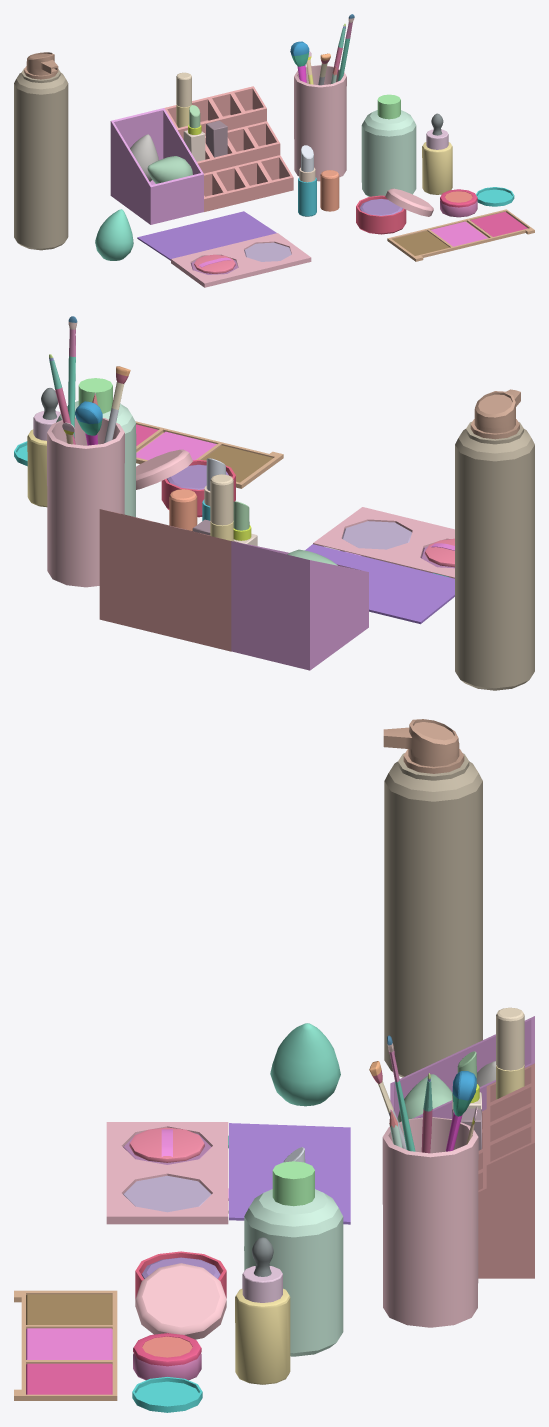
The model's file is Makeup.fbx.
The picture shows the model from 3 angles, top to bottom: view 1: azimuth 30°, elevation 25°; view 2: azimuth 150°, elevation 25°; view 3: azimuth 270°, elevation 25°; orthographic projection. The views are drawn at different scales.
Visible parts, largest first — view 1: 圆柱_6, 立方体.2, 立方体.3, 圆柱_3, 圆柱.2_5, 立方体.4_2, 立方体.3_1, 彩妆蛋2, 圆柱_4, 立方体.1_2, 圆柱.4_2, 彩妆蛋2.2 (+19 smaller); view 2: 圆柱_6, 立方体.2, 立方体.3, 圆柱_3, 立方体.4_2, 立方体.3_1, 圆柱.1_8, 立方体_3, 圆柱.2_5, 圆柱_4, 圆柱.6_2, 立方体.1_2 (+12 smaller); view 3: 圆柱_6, 圆柱_3, 圆柱.2_5, 立方体.2, 立方体.3_1, 立方体.4_2, 圆柱.6_2, 圆柱_4, 彩妆蛋2, 圆柱.1_8, 立方体.1_2, 立方体.3 (+14 smaller).
Boxes of the visible parts, bbox=[...] form: 圆柱_6: bbox=[14, 68, 68, 250]; 立方体.2: bbox=[164, 86, 293, 211]; 立方体.3: bbox=[110, 108, 203, 224]; 圆柱_3: bbox=[294, 65, 346, 181]; 圆柱.2_5: bbox=[361, 110, 416, 196]; 立方体.4_2: bbox=[137, 211, 276, 260]; 立方体.3_1: bbox=[171, 233, 311, 287]; 彩妆蛋2: bbox=[95, 209, 133, 260]; 圆柱_4: bbox=[422, 142, 452, 194]; 立方体.1_2: bbox=[387, 209, 534, 261]; 圆柱.4_2: bbox=[356, 195, 406, 234]; 彩妆蛋2.2: bbox=[147, 156, 192, 183]; 圆柱_6: bbox=[455, 422, 534, 690]; 立方体.2: bbox=[99, 509, 237, 651]; 立方体.3: bbox=[231, 541, 368, 670]; 圆柱_3: bbox=[47, 417, 124, 587]; 立方体.4_2: bbox=[305, 544, 454, 624]; 立方体.3_1: bbox=[313, 507, 454, 578]; 圆柱.1_8: bbox=[470, 389, 520, 439]; 立方体_3: bbox=[342, 521, 411, 549]; 圆柱.2_5: bbox=[56, 401, 136, 517]; 圆柱_4: bbox=[27, 429, 47, 507]; 圆柱.6_2: bbox=[136, 449, 192, 489]; 立方体.1_2: bbox=[135, 421, 283, 488]; 圆柱_6: bbox=[384, 753, 482, 1077]; 圆柱_3: bbox=[382, 1117, 478, 1327]; 圆柱.2_5: bbox=[244, 1189, 343, 1356]; 立方体.2: bbox=[478, 1063, 534, 1278]; 立方体.3_1: bbox=[106, 1122, 228, 1224]; 立方体.4_2: bbox=[229, 1123, 350, 1224]; 圆柱.6_2: bbox=[135, 1263, 226, 1339]; 圆柱_4: bbox=[235, 1288, 290, 1384]; 彩妆蛋2: bbox=[270, 1023, 340, 1106]; 圆柱.1_8: bbox=[383, 719, 464, 773]; 立方体.1_2: bbox=[14, 1290, 117, 1400]; 立方体.3: bbox=[390, 1016, 534, 1118].
Bounding box in the file's own units: 2533 × 1084 × 1498.
